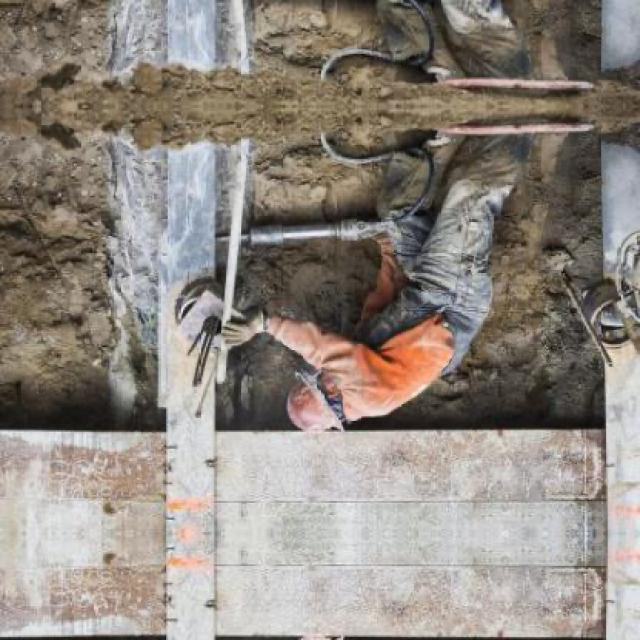con casco: (256, 367, 376, 441)
